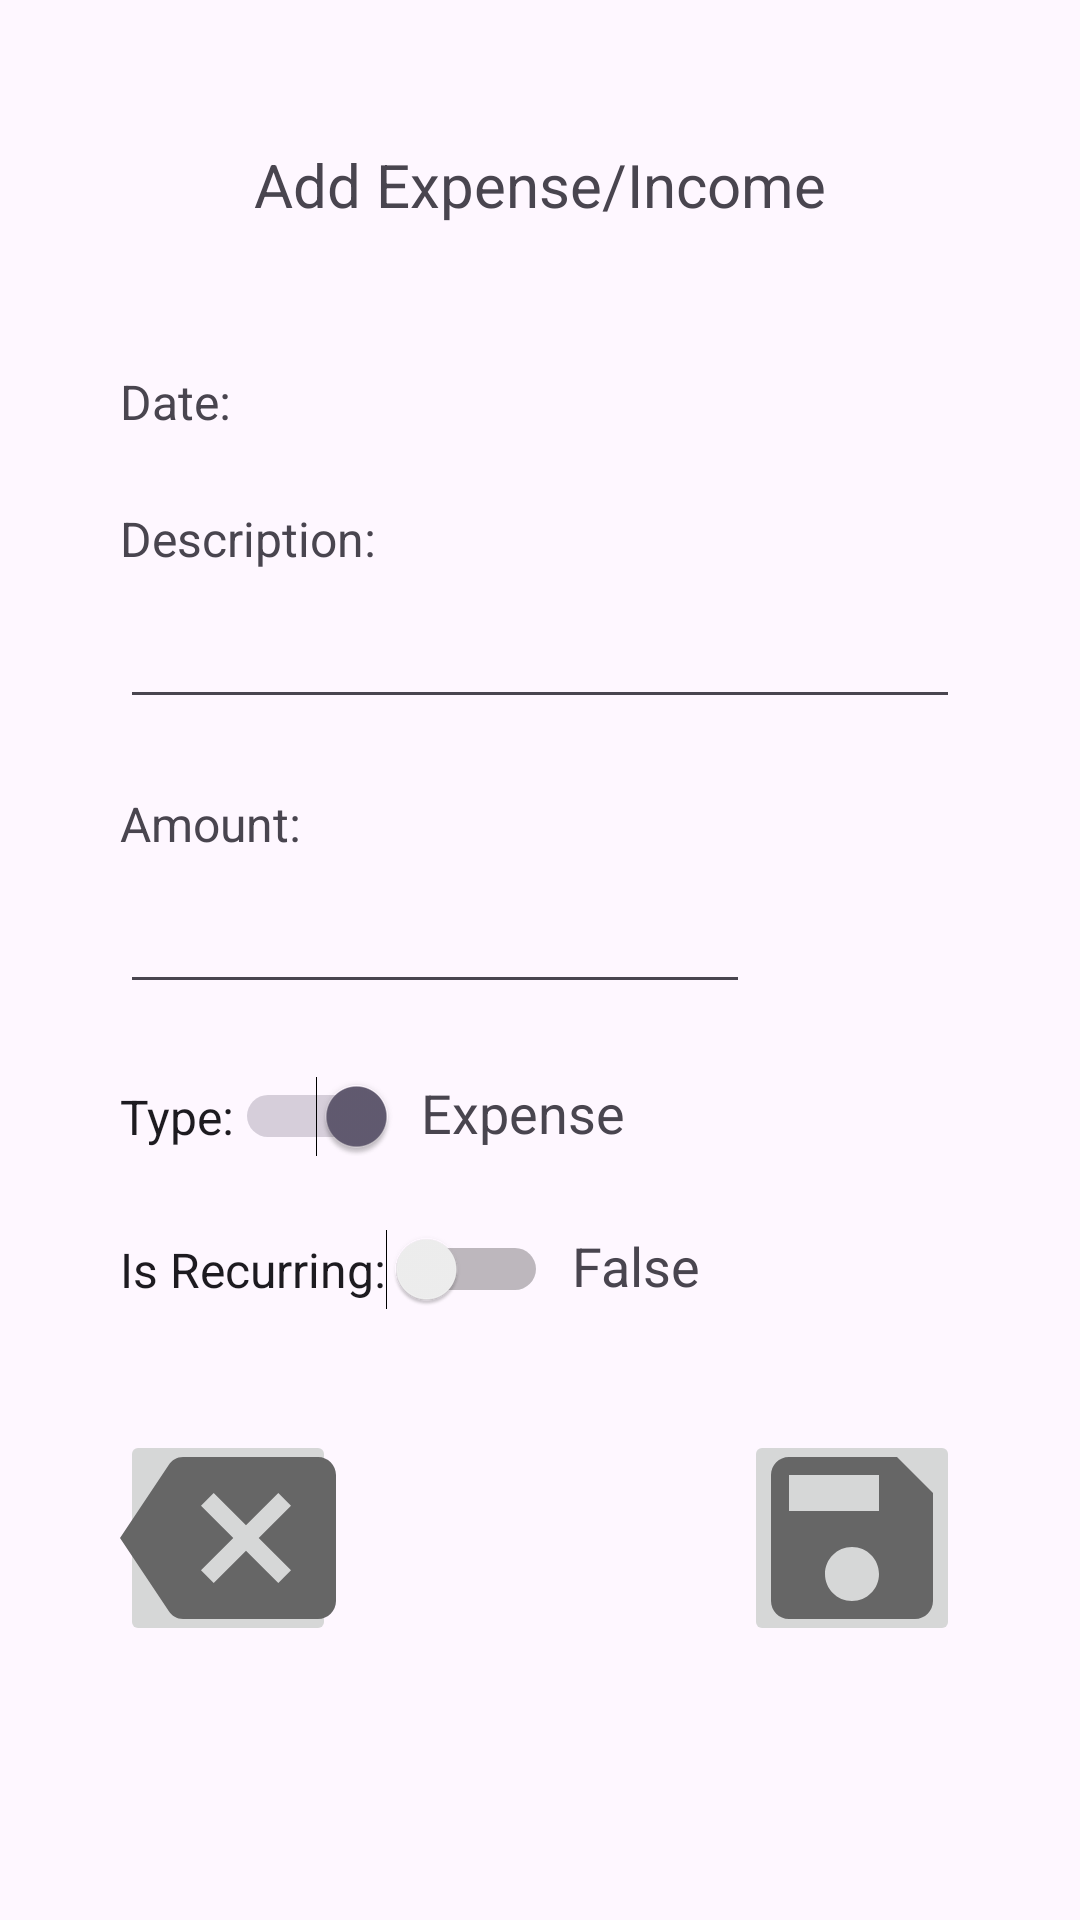

Icons on this 1080x1920 Android screen, each with its box as bbox(x1, y1, x2, y2):
backspace: bbox(120, 1448, 336, 1628)
save: bbox(756, 1448, 948, 1628)
